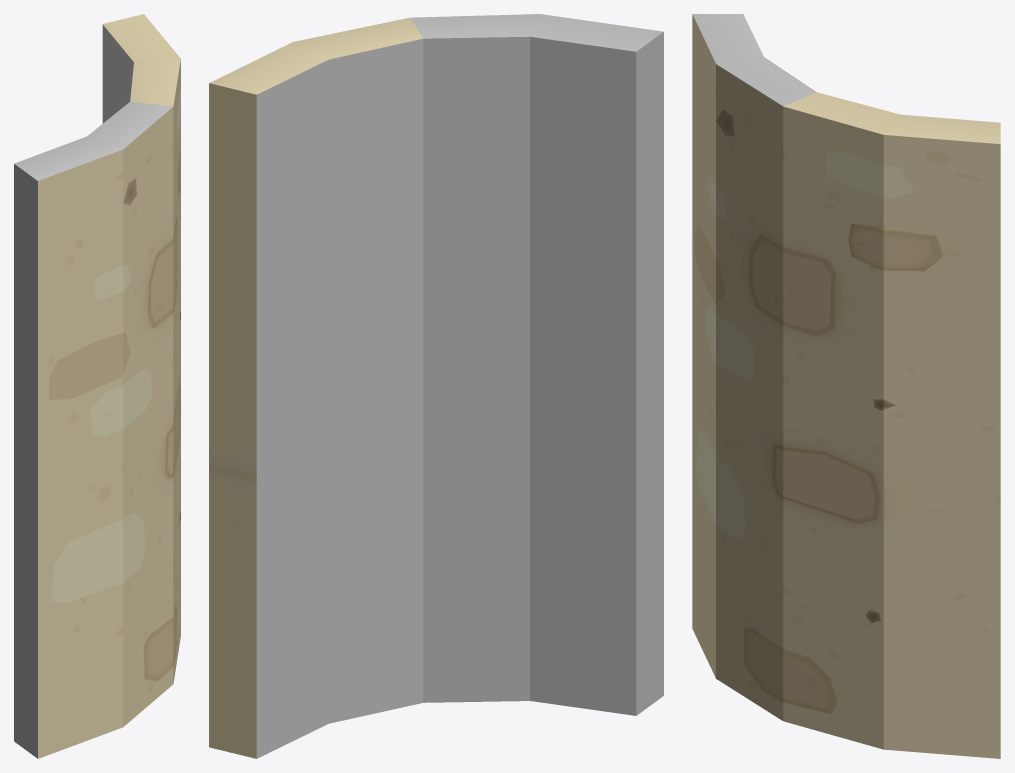
The model's file is SM_Bld_Wall_Curved_S_01_Collision.fbx.
3 views of the same model, side by side, from view 1: azimuth 30°, elevation 25°; view 2: azimuth 150°, elevation 25°; view 3: azimuth 270°, elevation 25° (orthographic). The views are drawn at different scales.
Parts seen in each view (by area): view 1: SM_Bld_Wall_Curved_S_01_Collision; view 2: SM_Bld_Wall_Curved_S_01_Collision; view 3: SM_Bld_Wall_Curved_S_01_Collision.
Boxes of the visible parts, <box> form: SM_Bld_Wall_Curved_S_01_Collision: <box>14,14,180,758</box>; SM_Bld_Wall_Curved_S_01_Collision: <box>209,14,663,758</box>; SM_Bld_Wall_Curved_S_01_Collision: <box>692,14,1000,758</box>.
Size of the model in its own units: 136 by 300 by 136.
